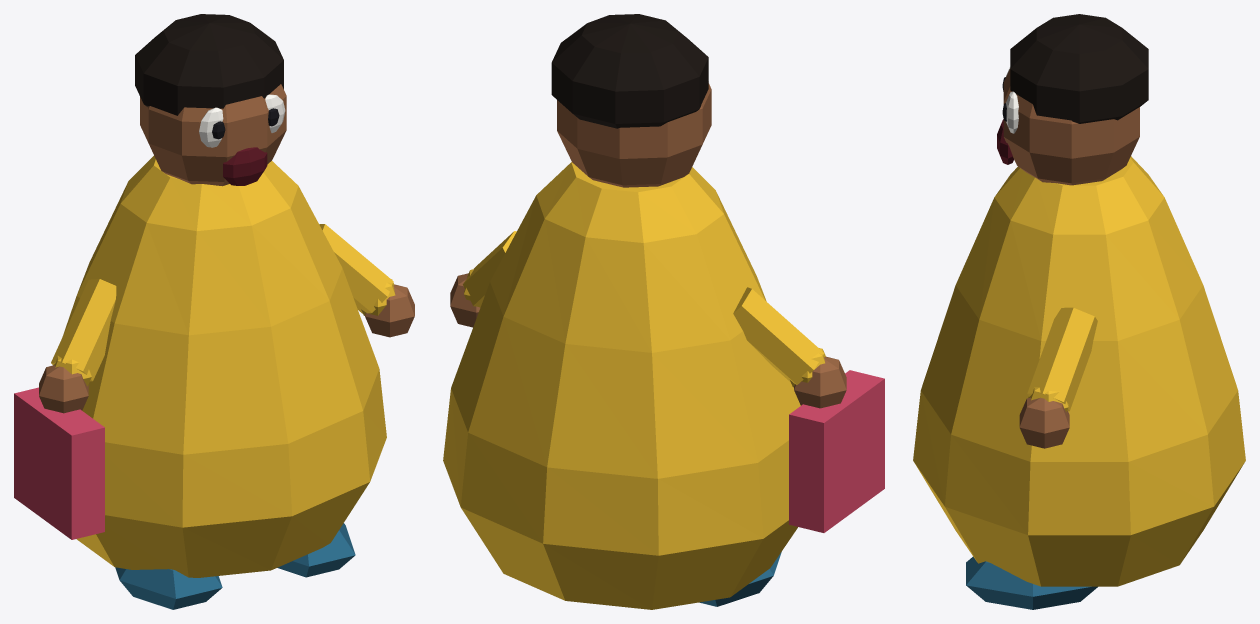
The model's file is npc_clienta.glb.
3 views of the same model, side by side, from view 1: azimuth 30°, elevation 25°; view 2: azimuth 150°, elevation 25°; view 3: azimuth 270°, elevation 25° (orthographic). The views are drawn at different scales.
Visible parts, largest first — view 1: body_raincoat, head_hair_black, props_shopping_bag, head_skin_cacao, arms_raincoat, legs_boots, arms_skin_cacao, face_mouth, face_white; view 2: body_raincoat, head_hair_black, props_shopping_bag, head_skin_cacao, arms_raincoat, arms_skin_cacao, legs_boots; view 3: body_raincoat, head_hair_black, head_skin_cacao, arms_raincoat, legs_boots, arms_skin_cacao, face_white.
Boxes of the visible parts, left/top/right/bottom form: body_raincoat: left=62, top=155, right=386, bottom=577; head_hair_black: left=135, top=14, right=283, bottom=115; props_shopping_bag: left=14, top=387, right=104, bottom=539; head_skin_cacao: left=140, top=84, right=286, bottom=186; arms_raincoat: left=51, top=224, right=395, bottom=386; legs_boots: left=115, top=523, right=355, bottom=609; arms_skin_cacao: left=39, top=284, right=414, bottom=413; face_mouth: left=223, top=147, right=267, bottom=185; face_white: left=199, top=94, right=285, bottom=147; body_raincoat: left=443, top=162, right=800, bottom=609; head_hair_black: left=551, top=14, right=708, bottom=128; props_shopping_bag: left=789, top=370, right=884, bottom=532; head_skin_cacao: left=557, top=83, right=711, bottom=187; arms_raincoat: left=463, top=231, right=825, bottom=387; arms_skin_cacao: left=450, top=273, right=846, bottom=408; legs_boots: left=699, top=552, right=781, bottom=606; body_raincoat: left=913, top=156, right=1245, bottom=586; head_hair_black: left=1010, top=14, right=1148, bottom=123; head_skin_cacao: left=1003, top=68, right=1139, bottom=185; arms_raincoat: left=1027, top=307, right=1097, bottom=411; legs_boots: left=966, top=556, right=1097, bottom=609; arms_skin_cacao: left=1019, top=397, right=1069, bottom=448; face_white: left=1006, top=67, right=1018, bottom=133.
Bounding box in the file's own units: 1.13 × 1.55 × 0.86.
